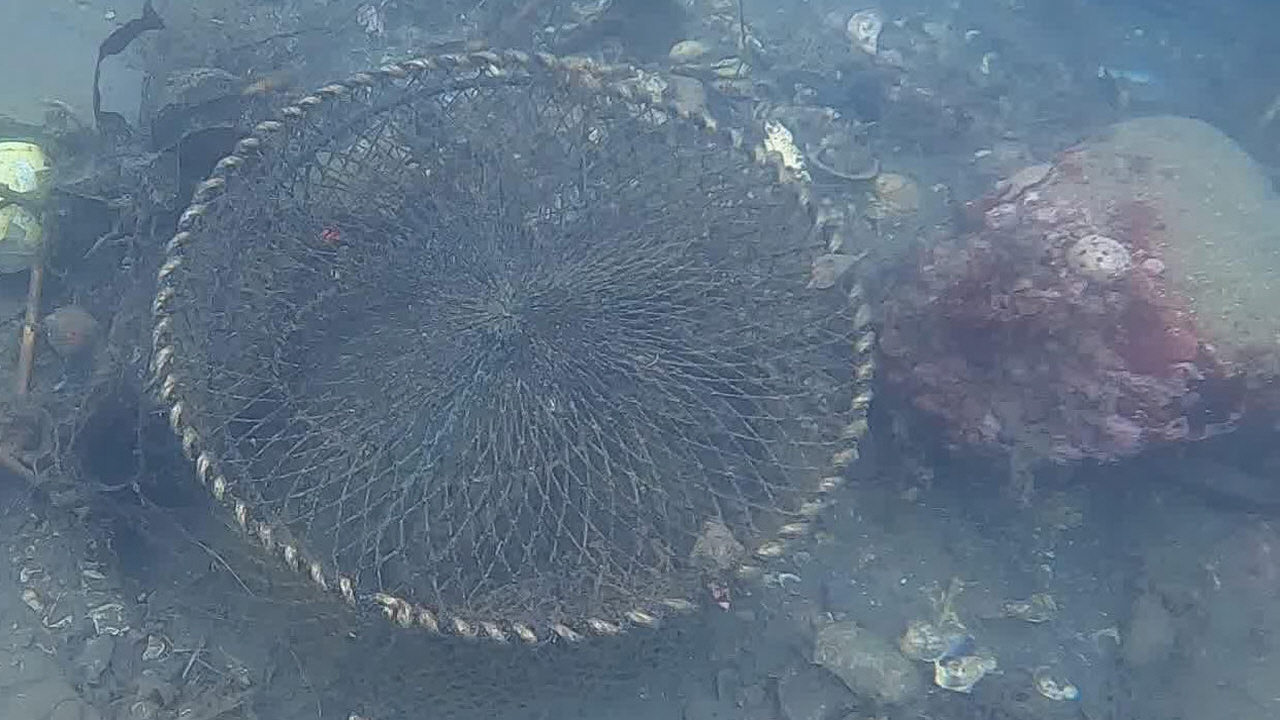circular fish trap: (150, 48, 876, 720)
